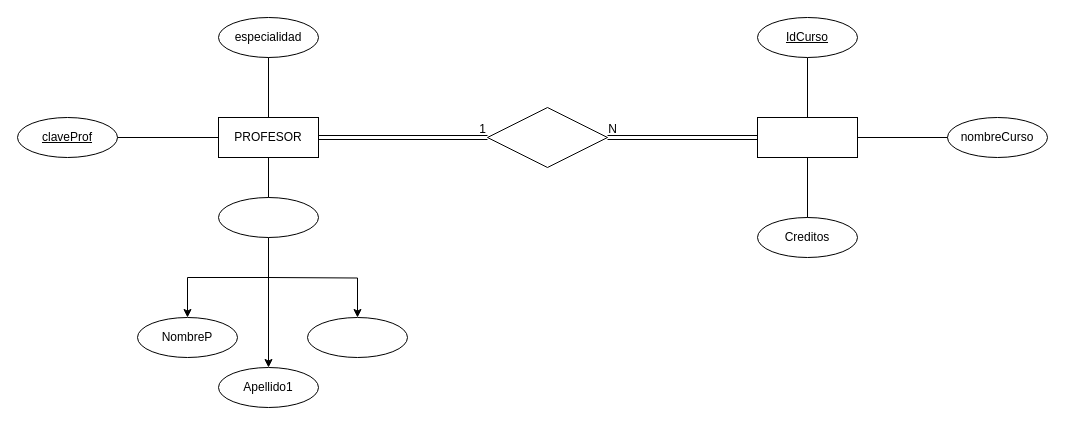
Image size: 1065x425. Some labels were removed from this diagram. The shapes that lost their labels are listed below. From the top down, each one's centre as x and y in pixels, then its label:
(x=547, y=137): IMPARTE
(x=807, y=137): CURSO
(x=268, y=217): Nombre
(x=357, y=337): Apellido2
